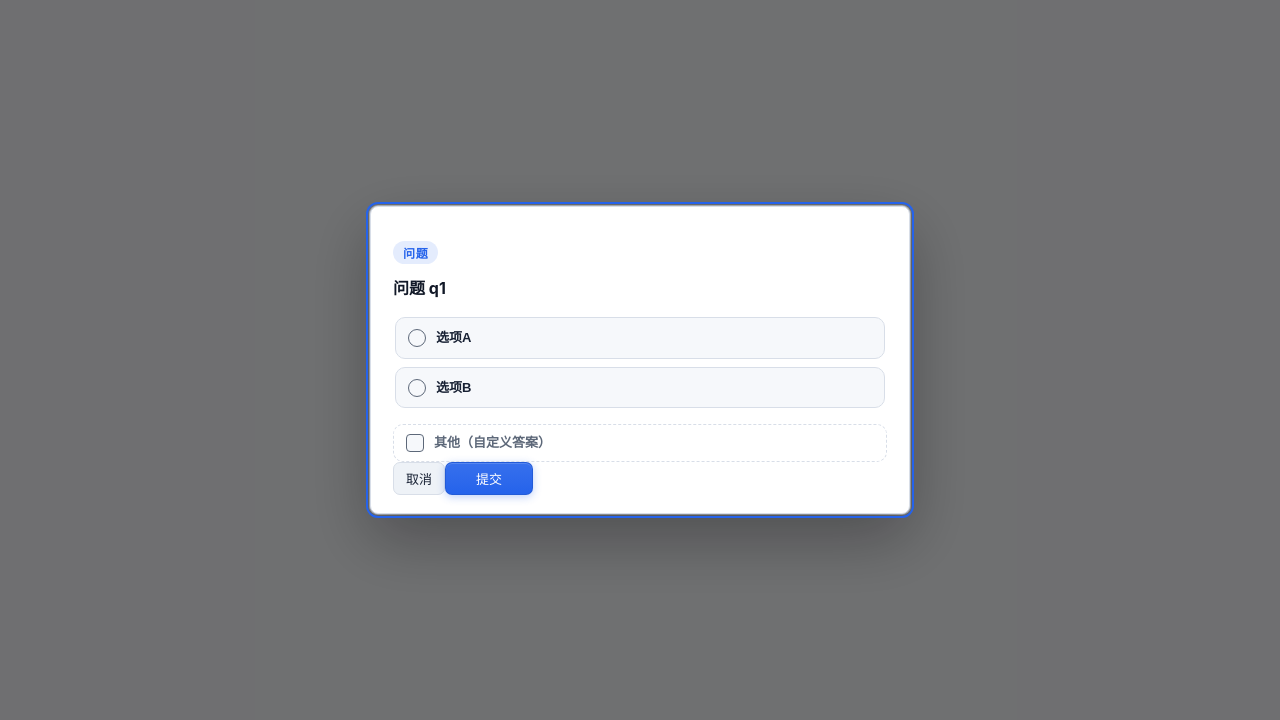
Test: QuestionHost › keeps the modal and the user input when submission fails
The width and height of the screenshot is (1280, 720).
Check: the text "问题 q1" is shown, box [393, 278, 446, 298]
Click the button "☐ 其他（自定义答案）".
click(493, 443)  # box [393, 424, 887, 462]
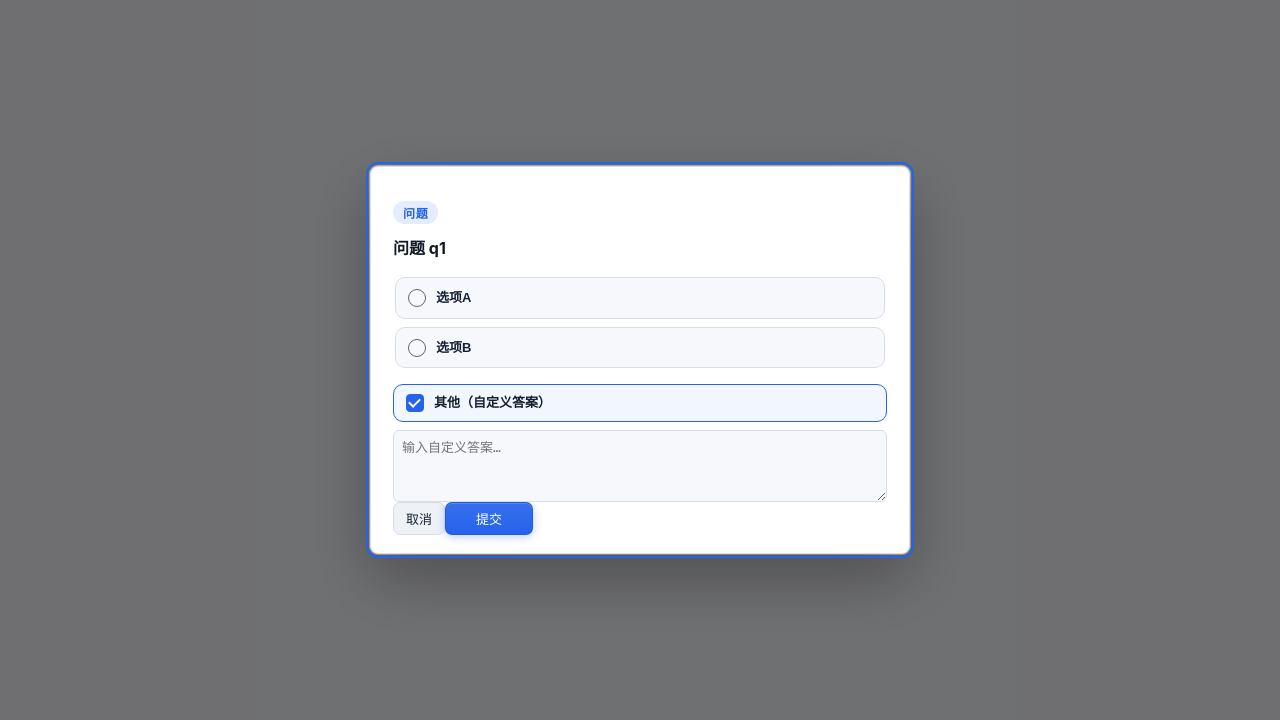
Type "保留我的答案" into the text box with placeholder "输入自定义答案…".
click(640, 466); type("保留我的答案")  # box [393, 430, 887, 502]
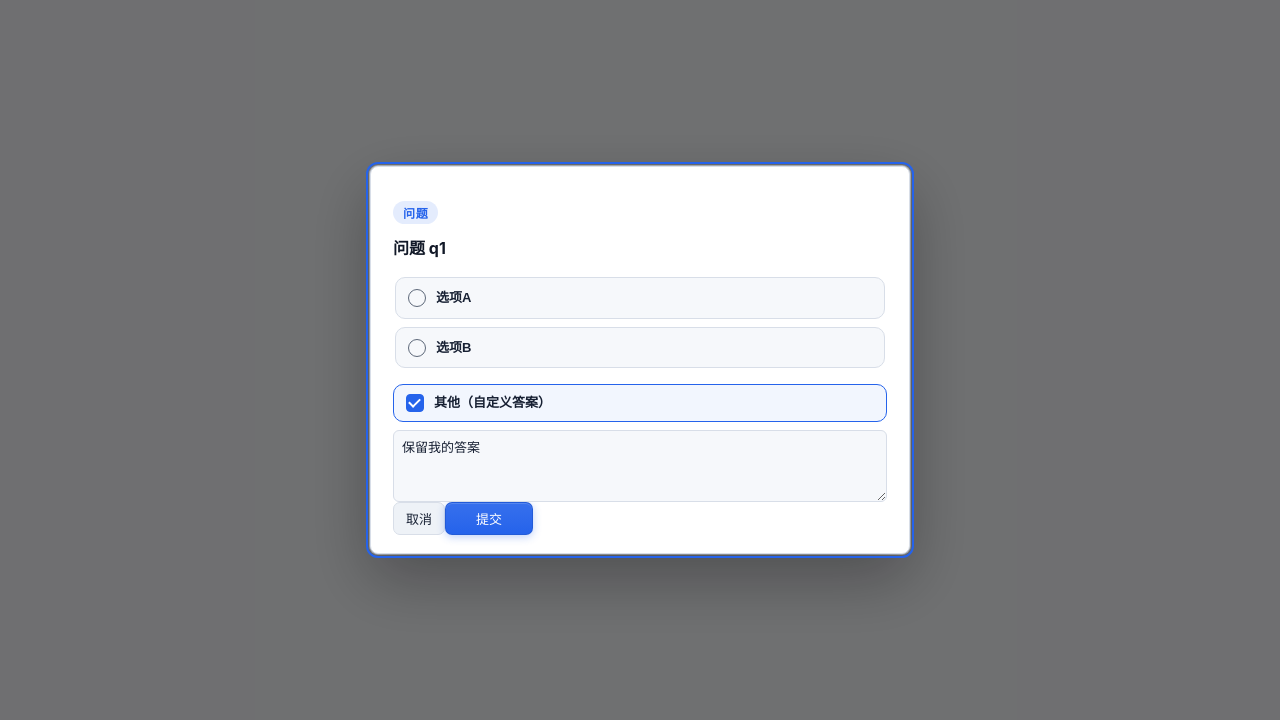
Click the button "提交".
click(489, 518)  # box [445, 502, 533, 535]
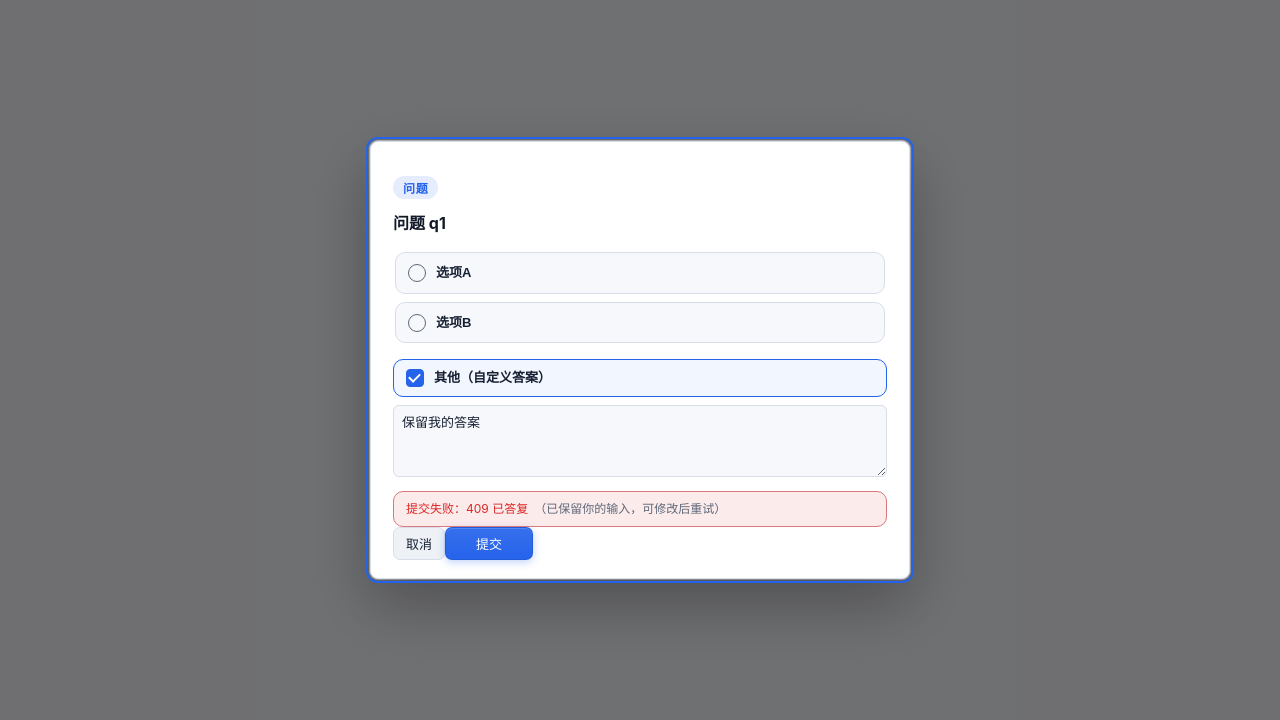
Check: the text "问题 q1" is shown, box [393, 213, 446, 233]
Check: the message "提交失败：409 已答复 （已保留你的输入，可修改后重试）" is shown, box [393, 491, 887, 527]
